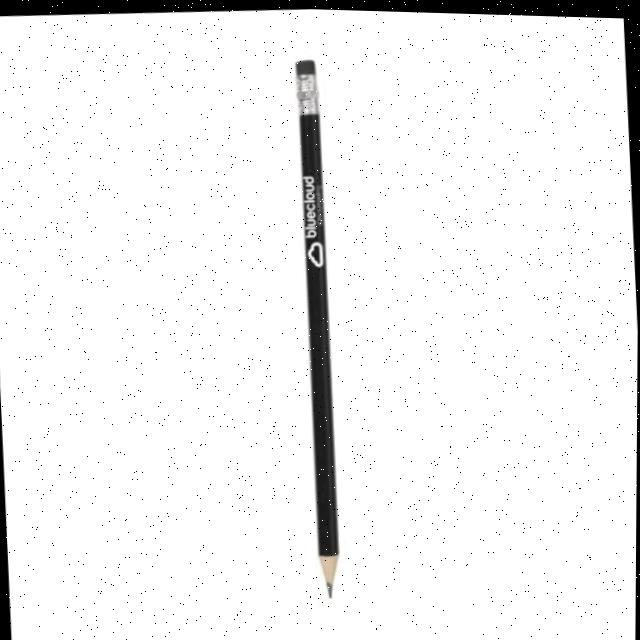pencil: (287, 55, 351, 602)
